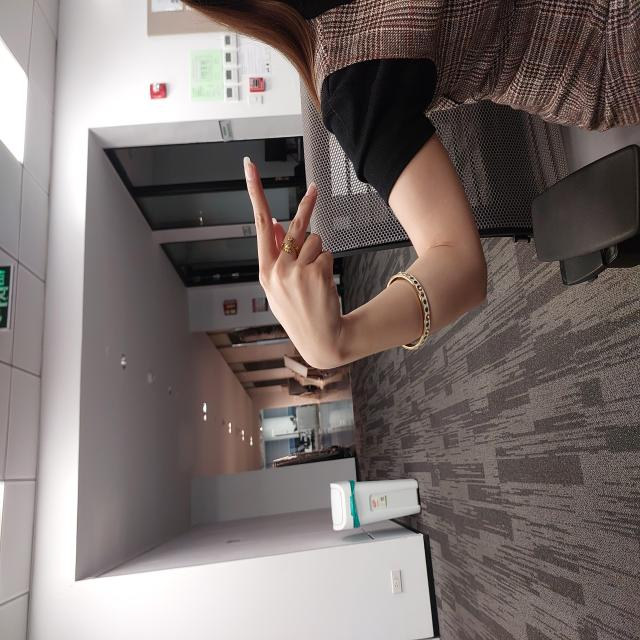K: (268, 242, 487, 344)
